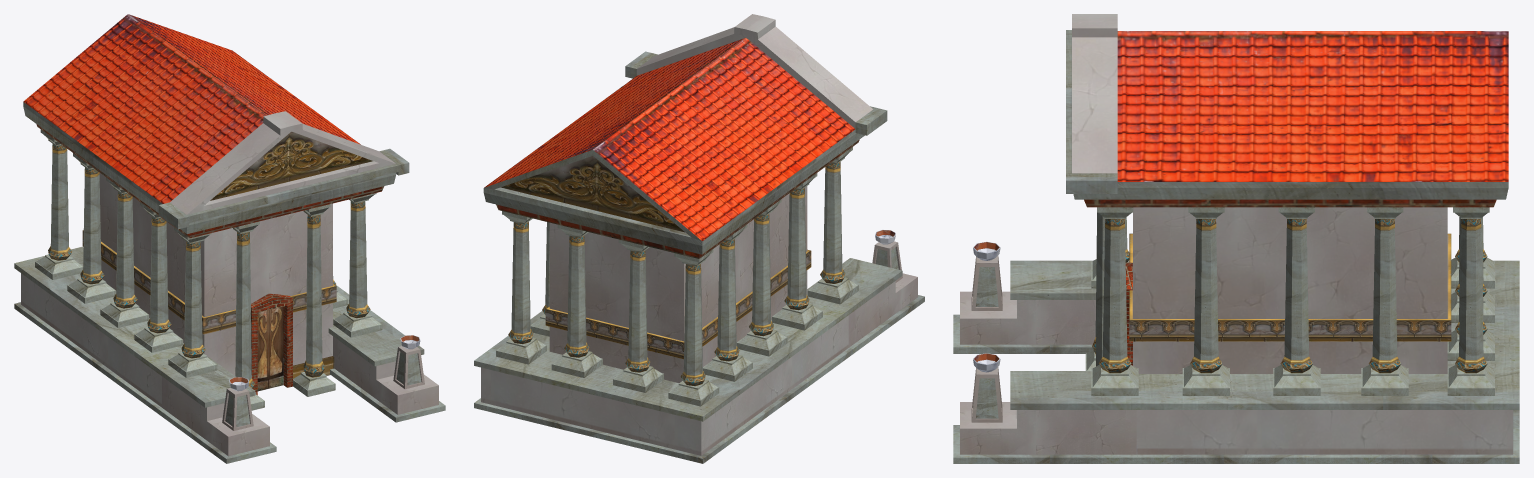
Rendered from Templa_3.glb.
3 views of the same model, side by side, from view 1: azimuth 30°, elevation 25°; view 2: azimuth 150°, elevation 25°; view 3: azimuth 270°, elevation 25° (orthographic). The views are drawn at different scales.
Visible parts, largest first — view 1: Templa_3.001; view 2: Templa_3.001; view 3: Templa_3.001.
Boxes of the visible parts, <box> form: Templa_3.001: <box>14,14,445,463</box>; Templa_3.001: <box>474,14,924,463</box>; Templa_3.001: <box>953,14,1519,463</box>.
Bounding box in the file's own units: 3.6 × 4.17 × 5.73.
1 material, 1 textured.
